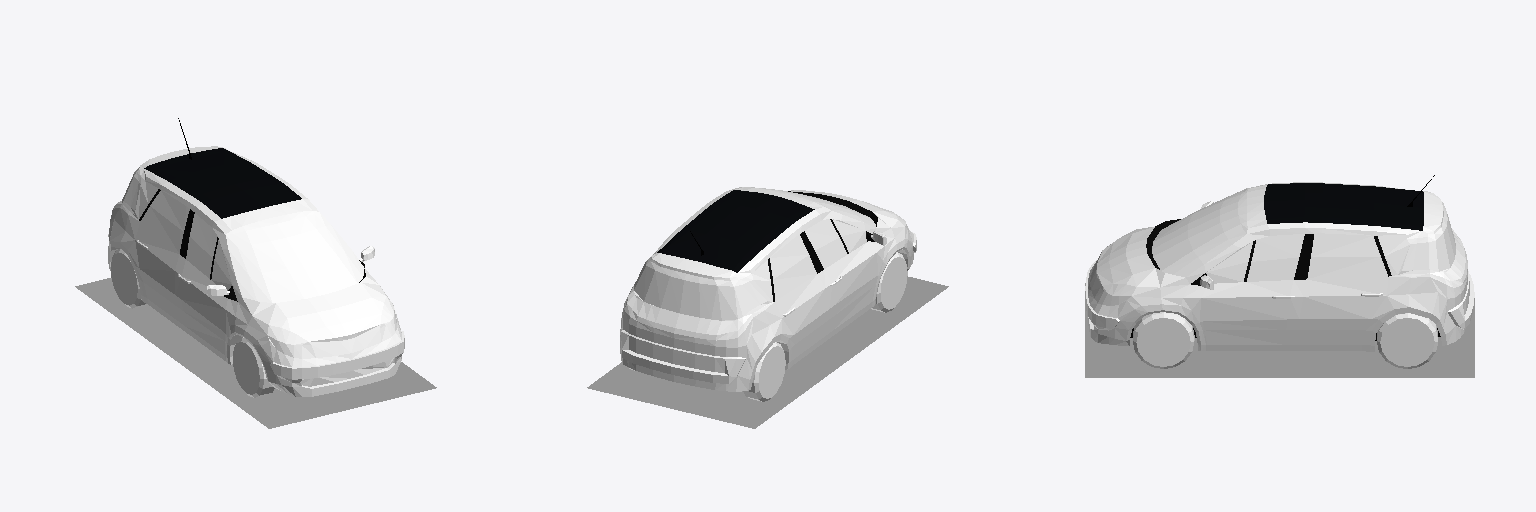
File: Auto2.obj
3 renders of one model, left to right at view 1: azimuth 30°, elevation 25°; view 2: azimuth 150°, elevation 25°; view 3: azimuth 270°, elevation 25°, orthographic.
Visible parts, largest first — view 1: car_Plane_9, car_Plane_704_10, ground_1, 4, car_Plane_784_12, car_Plane_808_14, car_Plane_804_13, car_Plane_1240_15, 3; view 2: car_Plane_9, ground_1, car_Plane_704_10, 4, car_Plane_808_14, car_Plane_1240_15, 3, car_Plane_766_11; view 3: car_Plane_9, car_Plane_704_10, ground_1, 4, car_Plane_808_14, car_Plane_1240_15, 3, car_Plane_784_12, car_Plane_766_11.
Part boxes in pixels (bbox=[...]): car_Plane_9: bbox=[108, 146, 404, 396]; car_Plane_704_10: bbox=[135, 181, 363, 302]; ground_1: bbox=[75, 278, 436, 428]; 4: bbox=[144, 148, 301, 218]; car_Plane_784_12: bbox=[267, 296, 396, 358]; car_Plane_808_14: bbox=[111, 248, 274, 397]; car_Plane_804_13: bbox=[300, 329, 394, 386]; car_Plane_1240_15: bbox=[114, 259, 256, 388]; 3: bbox=[139, 189, 365, 301]; car_Plane_9: bbox=[620, 187, 916, 393]; ground_1: bbox=[587, 276, 948, 428]; car_Plane_704_10: bbox=[634, 187, 875, 320]; 4: bbox=[657, 190, 814, 272]; car_Plane_808_14: bbox=[628, 252, 907, 401]; car_Plane_1240_15: bbox=[762, 263, 904, 392]; 3: bbox=[768, 191, 877, 301]; car_Plane_766_11: bbox=[622, 282, 752, 347]; car_Plane_9: bbox=[1085, 182, 1474, 351]; car_Plane_704_10: bbox=[1152, 188, 1455, 283]; ground_1: bbox=[1085, 298, 1474, 377]; 4: bbox=[1264, 183, 1423, 230]; car_Plane_808_14: bbox=[1133, 312, 1437, 368]; car_Plane_1240_15: bbox=[1143, 323, 1427, 360]; 3: bbox=[1130, 219, 1440, 340]; car_Plane_784_12: bbox=[1094, 244, 1135, 305]; car_Plane_766_11: bbox=[1430, 229, 1460, 298].
Bounding box in the file's own units: 213 × 196 × 426.